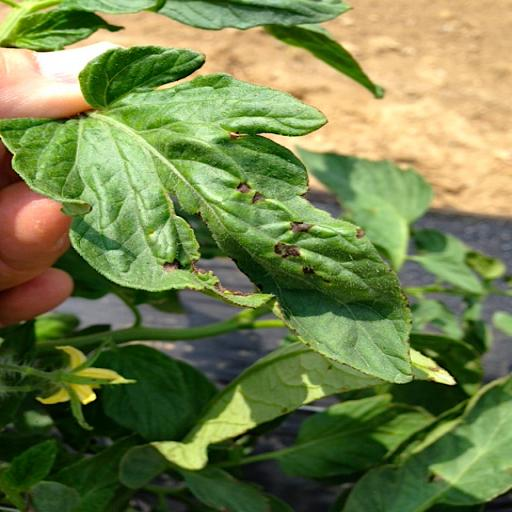Bacterial Spot: (0, 42, 415, 392)
